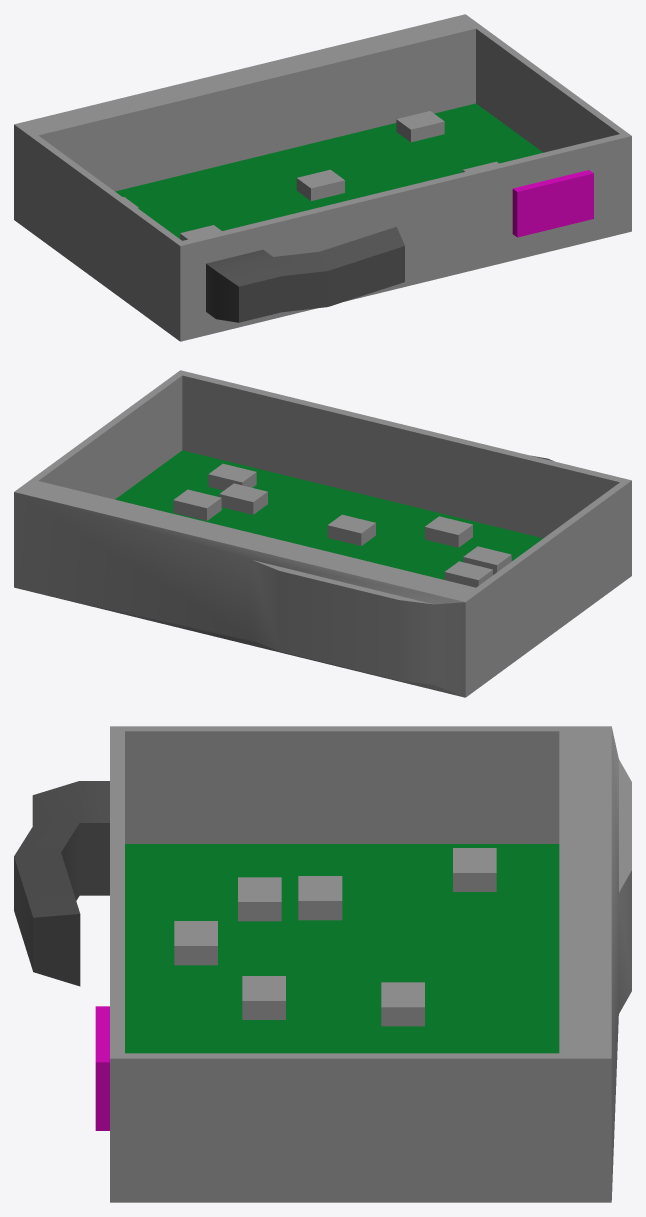
Rendered from PrinterHead.fbx.
3 views of the same model, one above another, from view 1: azimuth 30°, elevation 25°; view 2: azimuth 150°, elevation 25°; view 3: azimuth 270°, elevation 25° (orthographic). The views are drawn at different scales.
Parts seen in each view (by area): view 1: PrintHead9; view 2: PrintHead9; view 3: PrintHead9.
Part boxes in pixels (left/top/right/bottom): PrintHead9: left=14, top=14, right=631, bottom=341; PrintHead9: left=14, top=370, right=631, bottom=697; PrintHead9: left=14, top=726, right=631, bottom=1202.
Size of the model in its own units: 2.08 by 0.4206 by 1.63.
